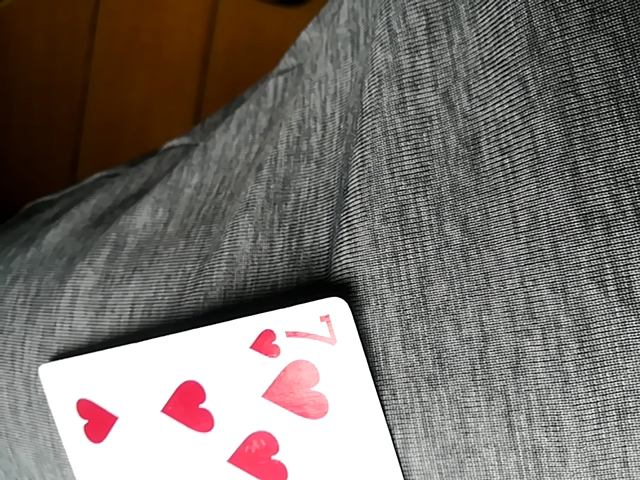hx 7: (44, 299, 414, 475)
